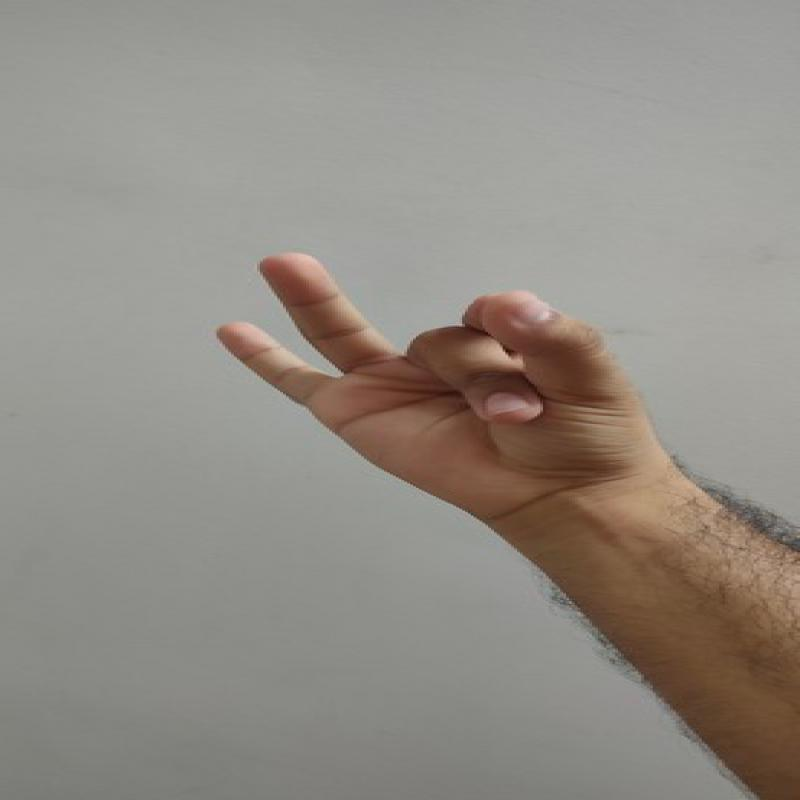Katakam: (185, 229, 668, 572)
